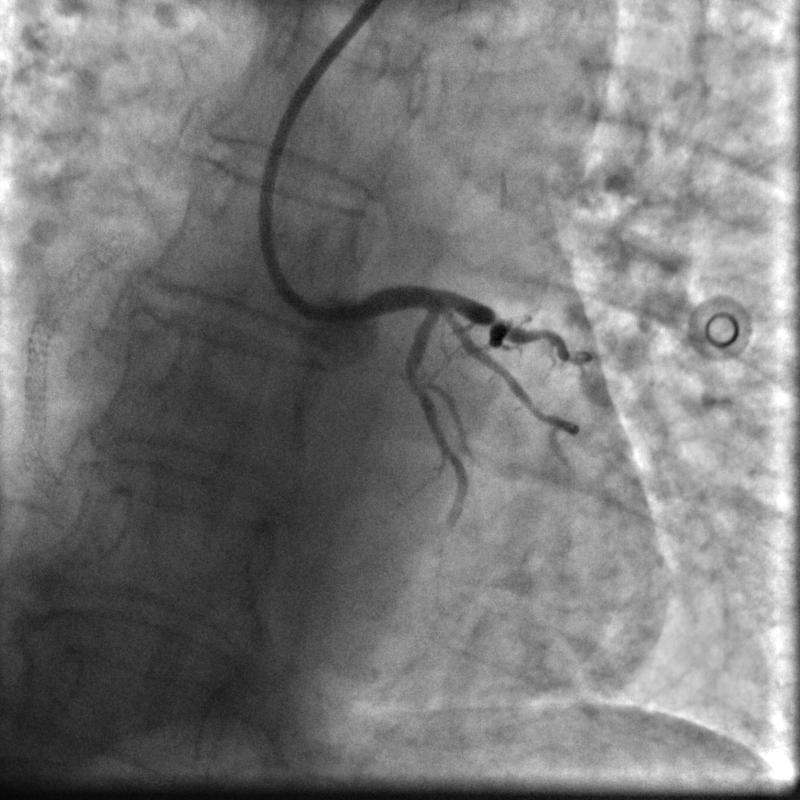Stenosis: (401, 370, 430, 394)
